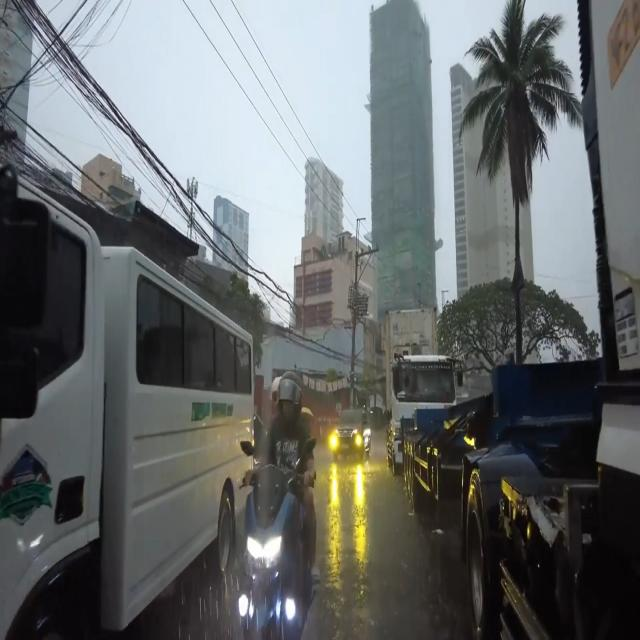half: (277, 370, 303, 423), (270, 375, 284, 405)
